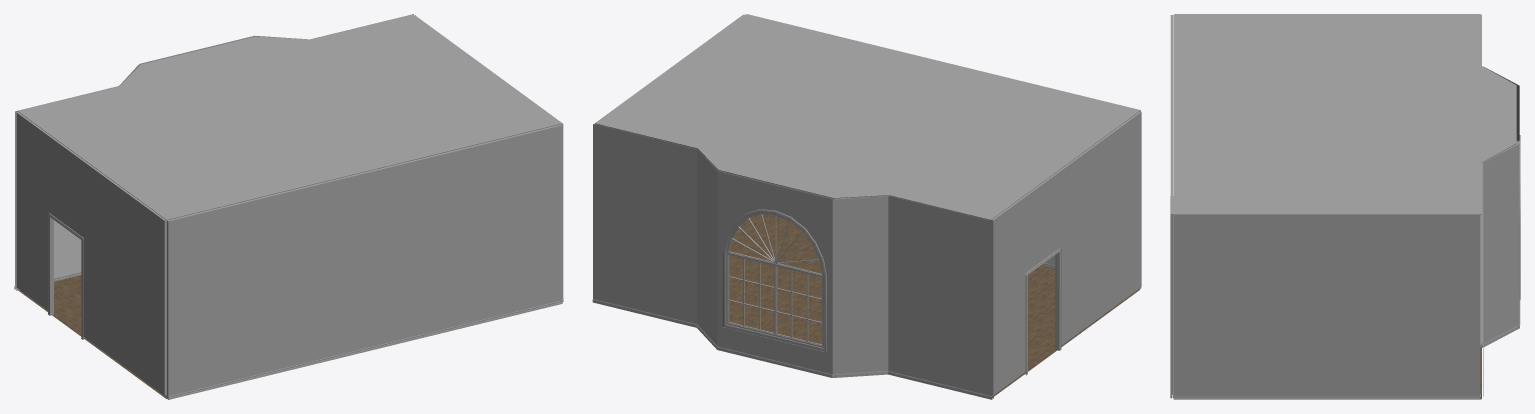
Rendered from Room_A.fbx.
3 renders of one model, left to right at view 1: azimuth 30°, elevation 25°; view 2: azimuth 150°, elevation 25°; view 3: azimuth 270°, elevation 25°, orthographic. The views are drawn at different scales.
Parts seen in each view (by area): view 1: BackWall, Roof, LeftWall, Wall_low_Mirror002, Floor001, Room_A, RightWall; view 2: Roof, Wall_low_Mirror002, LeftWall, Floor001, WindowFrame02_low_Mirror001, WindowFrame01_low_Mirror001, Room_A, BackWall; view 3: Roof, RightWall, Wall_low_Mirror002, BackWall, WindowFrame01_low_Mirror001.
Boxes of the visible parts, box(x1,y1,x2,y2) form: BackWall: box(166, 124, 562, 399); Roof: box(17, 14, 561, 220); LeftWall: box(16, 112, 166, 395); Wall_low_Mirror002: box(14, 14, 415, 290); Floor001: box(18, 275, 166, 398); Room_A: box(48, 212, 166, 396); RightWall: box(414, 15, 563, 301); Roof: box(596, 14, 1139, 220); Wall_low_Mirror002: box(592, 123, 993, 399); LeftWall: box(990, 111, 1141, 395); Floor001: box(729, 214, 1139, 396); WindowFrame02_low_Mirror001: box(726, 212, 823, 347); WindowFrame01_low_Mirror001: box(722, 209, 826, 352); Room_A: box(1024, 247, 1061, 375); BackWall: box(746, 14, 1141, 289); Roof: box(1174, 14, 1516, 214); RightWall: box(1173, 214, 1480, 399); Wall_low_Mirror002: box(1480, 67, 1520, 396); BackWall: box(1170, 15, 1173, 398); WindowFrame01_low_Mirror001: box(1519, 135, 1520, 299).
Bounding box in the file's own units: 7485 × 3202 × 5491.
